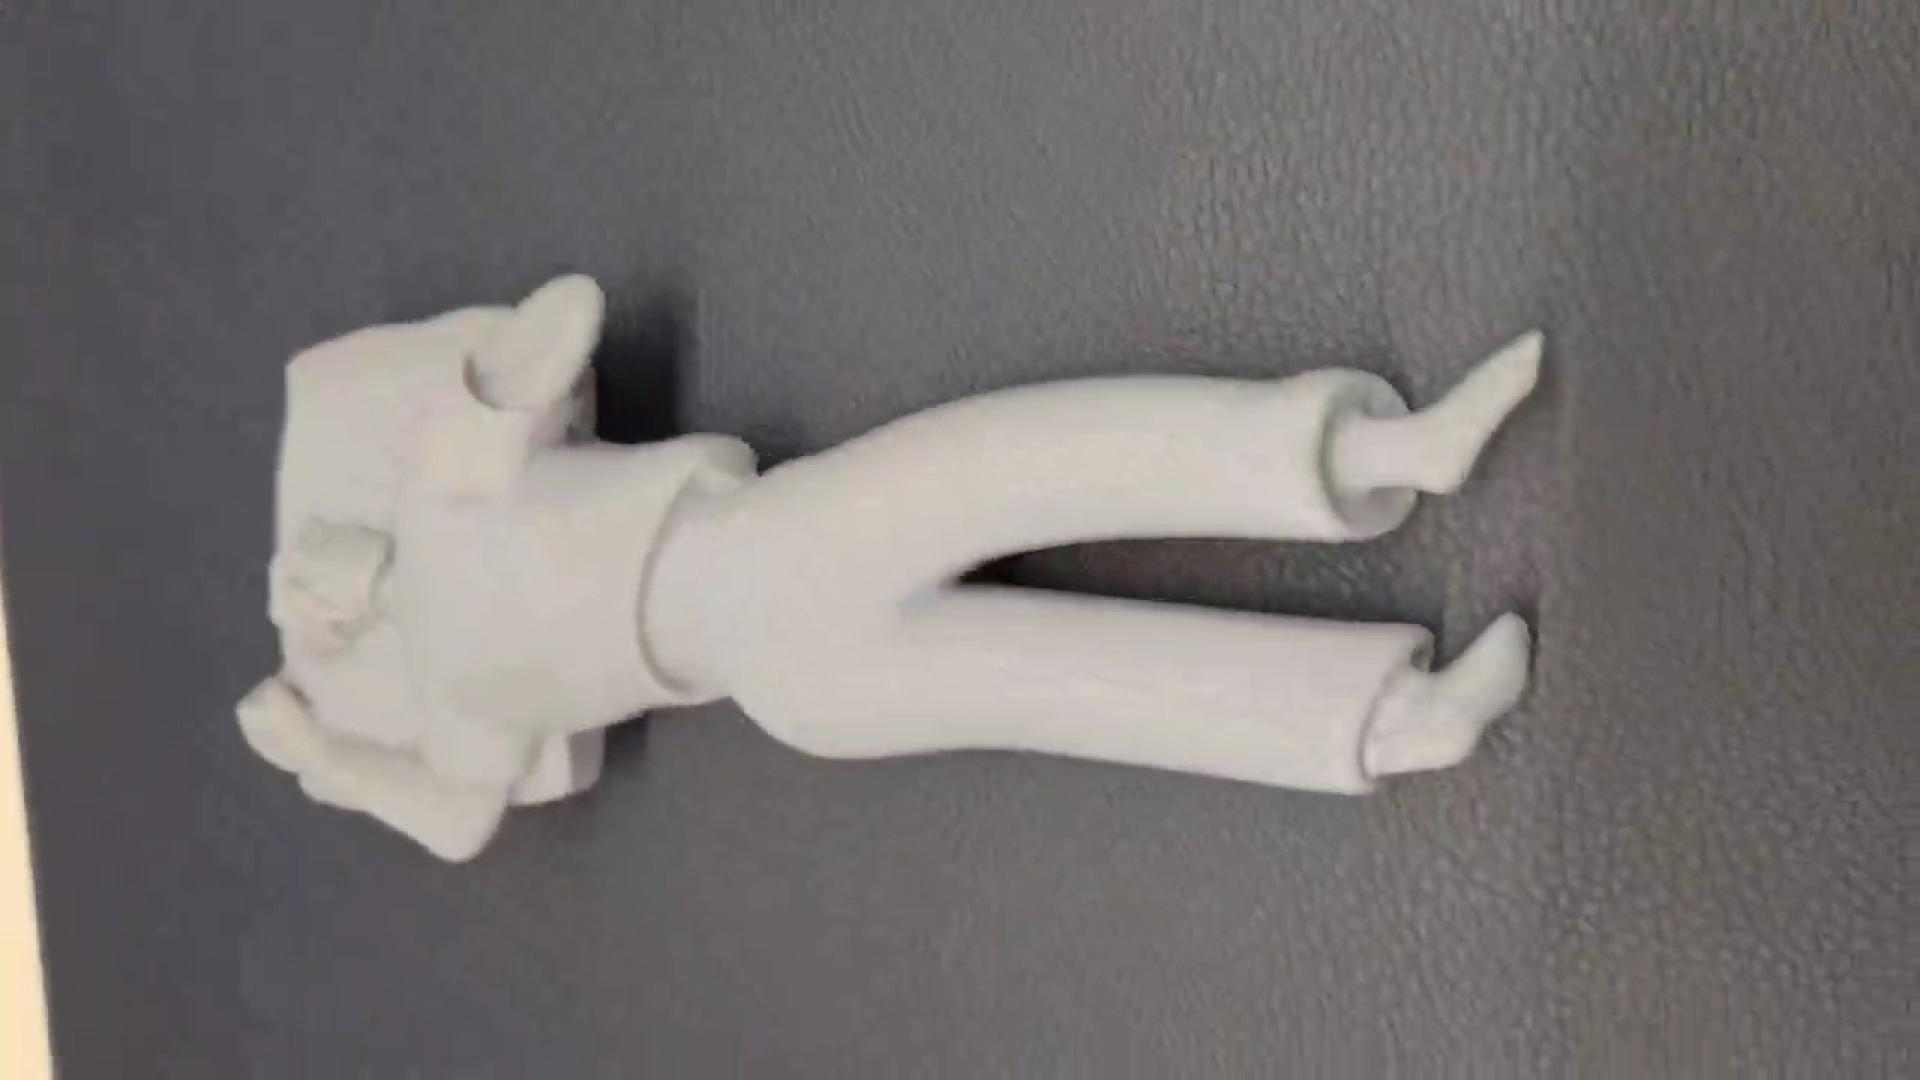Bad-style: (232, 268, 1547, 866)
